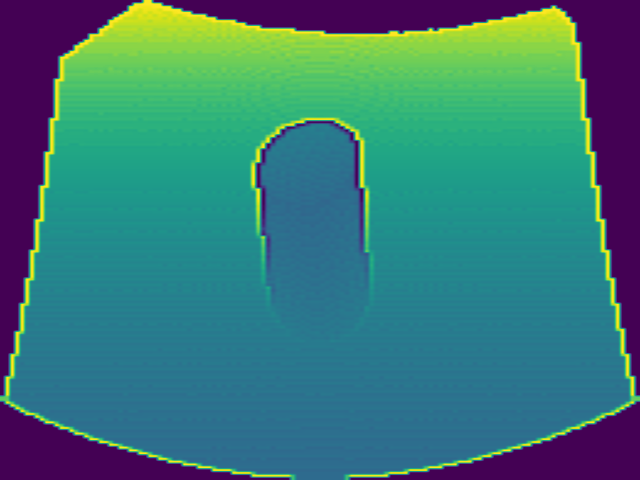cylinder: (251, 114, 374, 342)
